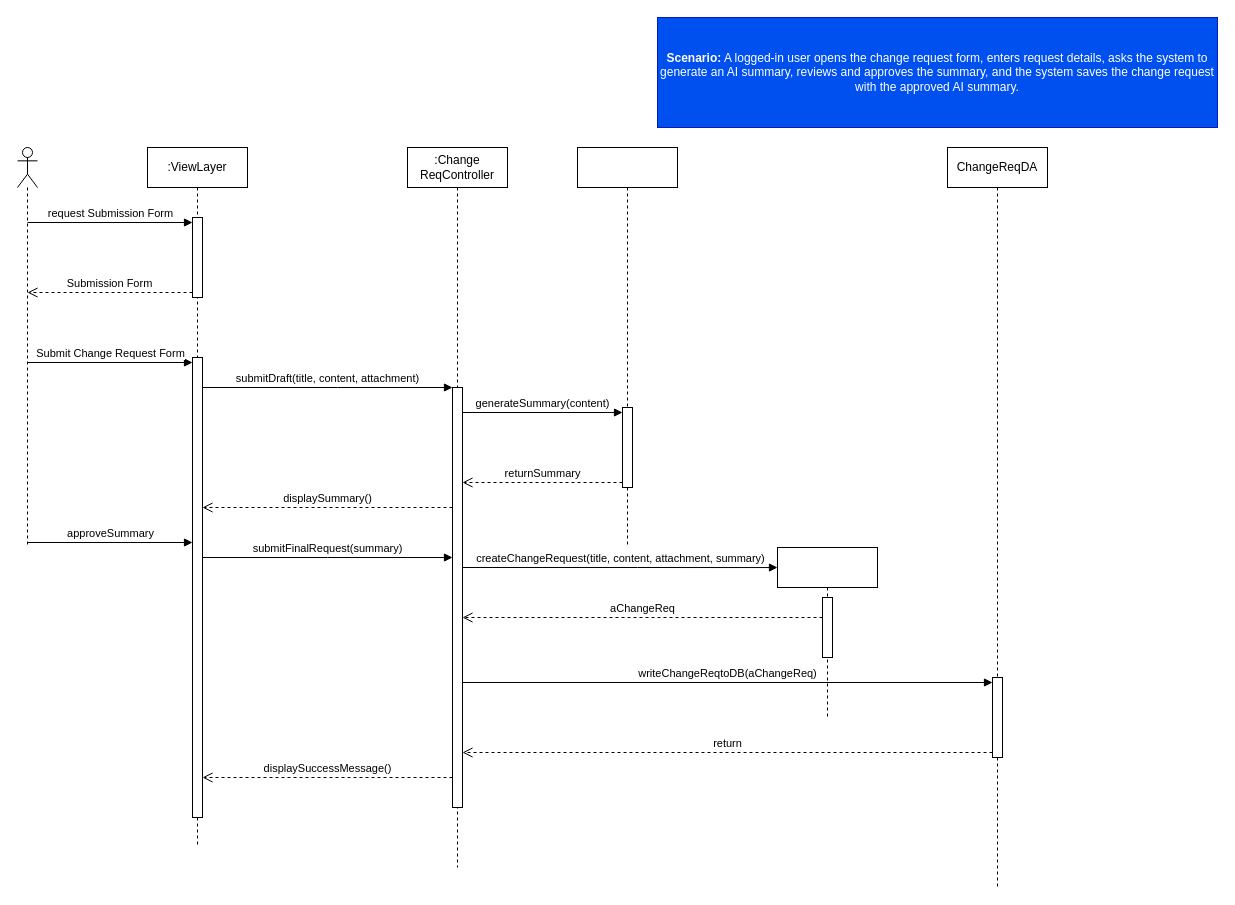
Image size: 1235x905. Some labels were removed from this diagram. Each missing label, with the box of its shape:
:AIAPI: (576, 146, 678, 548)
aChangeReq: ChangeRequest: (776, 546, 878, 718)
